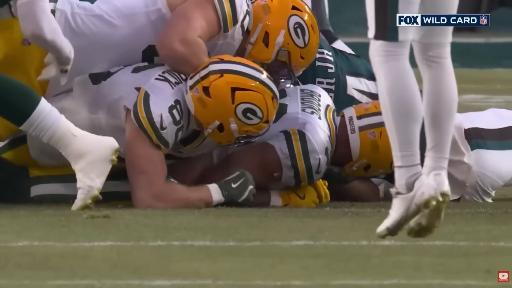Helmet: (186, 56, 278, 145), (245, 0, 319, 75), (342, 101, 393, 178)
Jersey: (49, 64, 215, 157), (47, 0, 170, 96), (47, 0, 170, 95), (257, 85, 338, 188), (298, 36, 377, 111), (342, 102, 393, 177), (206, 0, 252, 56)
Player: (51, 56, 278, 207), (366, 0, 458, 237), (55, 0, 318, 79), (199, 85, 344, 206), (0, 75, 118, 209), (298, 0, 377, 111), (298, 36, 378, 111), (328, 127, 392, 201)
